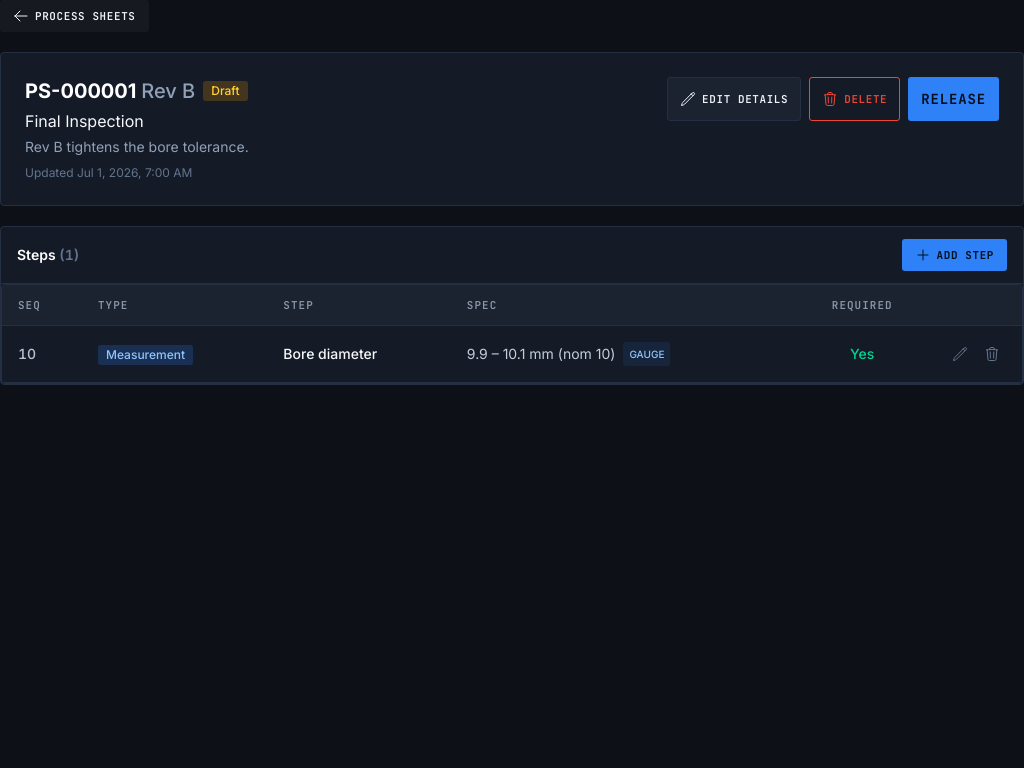
Test: ProcessSheets page › a stale draft step edit surfaces the server 409 detail verbatim
Expected: the text "Bore diameter" is shown, [283, 345, 377, 362]
Click the button named "Edit step 10".
click(960, 354)  # box [946, 340, 974, 368]
(page scrolled)
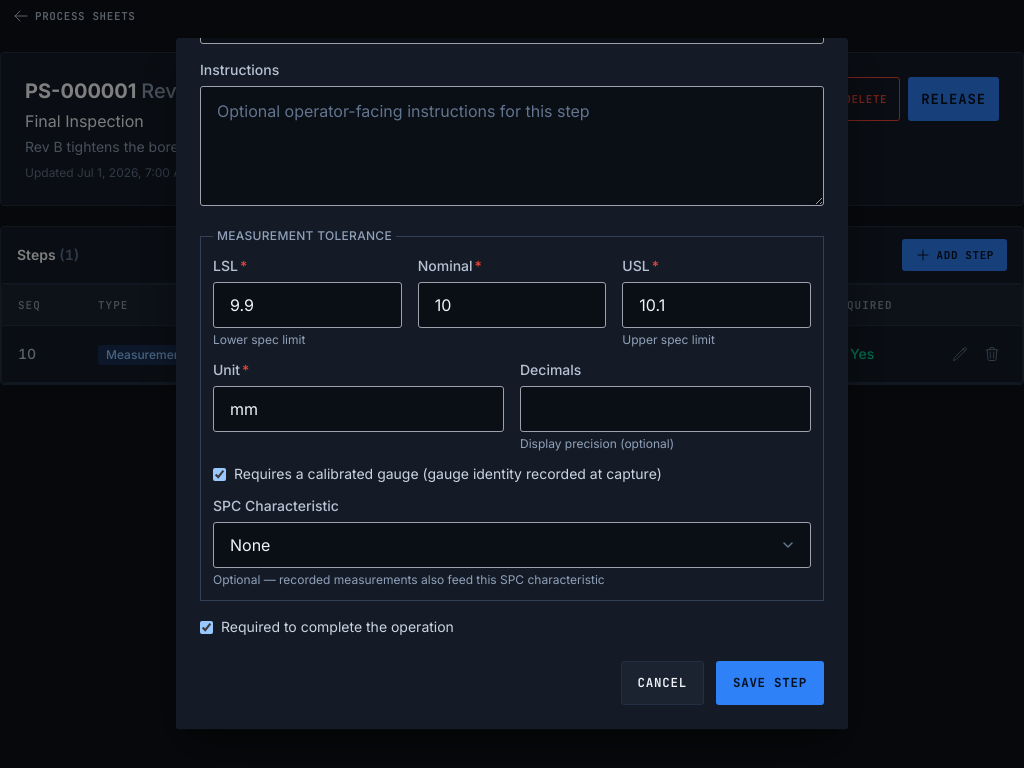
Click the button "Save Step".
click(770, 683)  # box [716, 661, 824, 705]
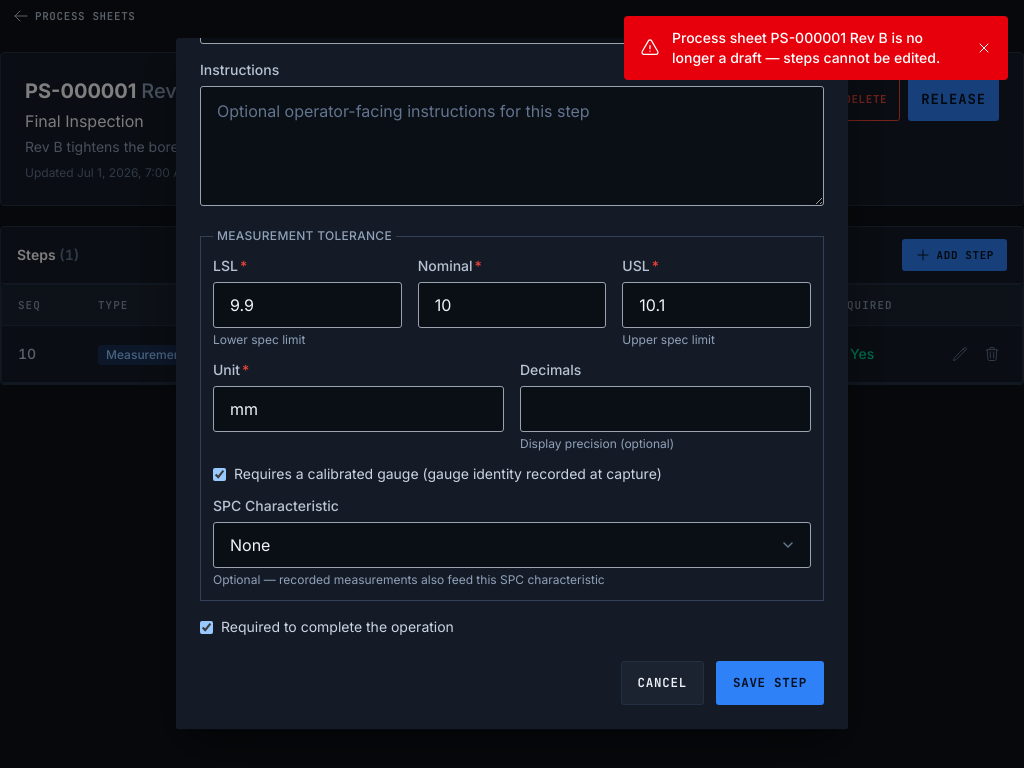
Now the text "Process sheet PS-000001 Rev B is no longer a draft — steps cannot be edited." is shown, box [672, 28, 964, 68]
